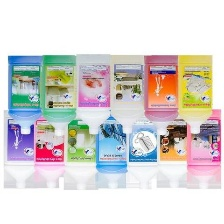cleaning_solution: (92, 107, 135, 191), (107, 50, 148, 134), (5, 52, 46, 135), (183, 107, 224, 190), (141, 50, 180, 136), (74, 50, 113, 136), (0, 107, 40, 190), (39, 50, 77, 137), (176, 50, 215, 134), (62, 108, 101, 191), (125, 109, 162, 191), (31, 109, 68, 189), (155, 107, 191, 189)
